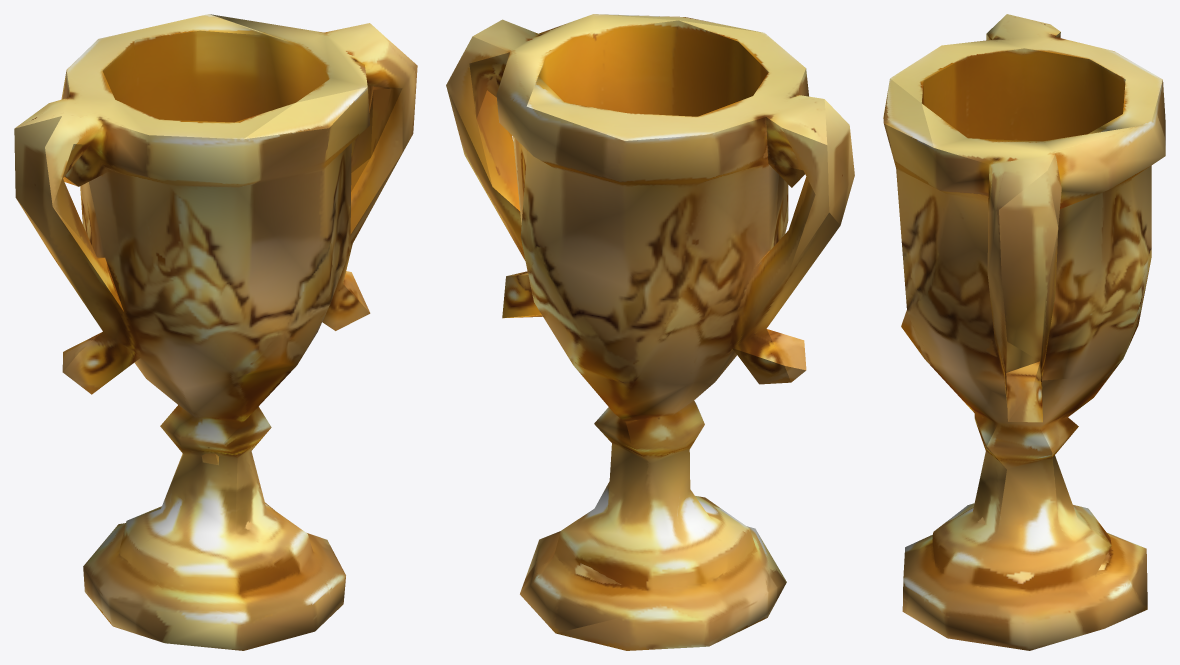
File: gold-trophy-urn.glb
3 views of the same model, side by side, from view 1: azimuth 30°, elevation 25°; view 2: azimuth 150°, elevation 25°; view 3: azimuth 270°, elevation 25° (orthographic). The views are drawn at different scales.
Parts seen in each view (by area): view 1: geometry_0.001; view 2: geometry_0.001; view 3: geometry_0.001.
Part boxes in pixels (<box>): geometry_0.001: <box>14,14,417,650</box>; geometry_0.001: <box>446,14,854,650</box>; geometry_0.001: <box>883,14,1165,650</box>.
Bounding box in the file's own units: 0.7472 × 1 × 0.5038.
Materials: 1 (1 with a texture image).
